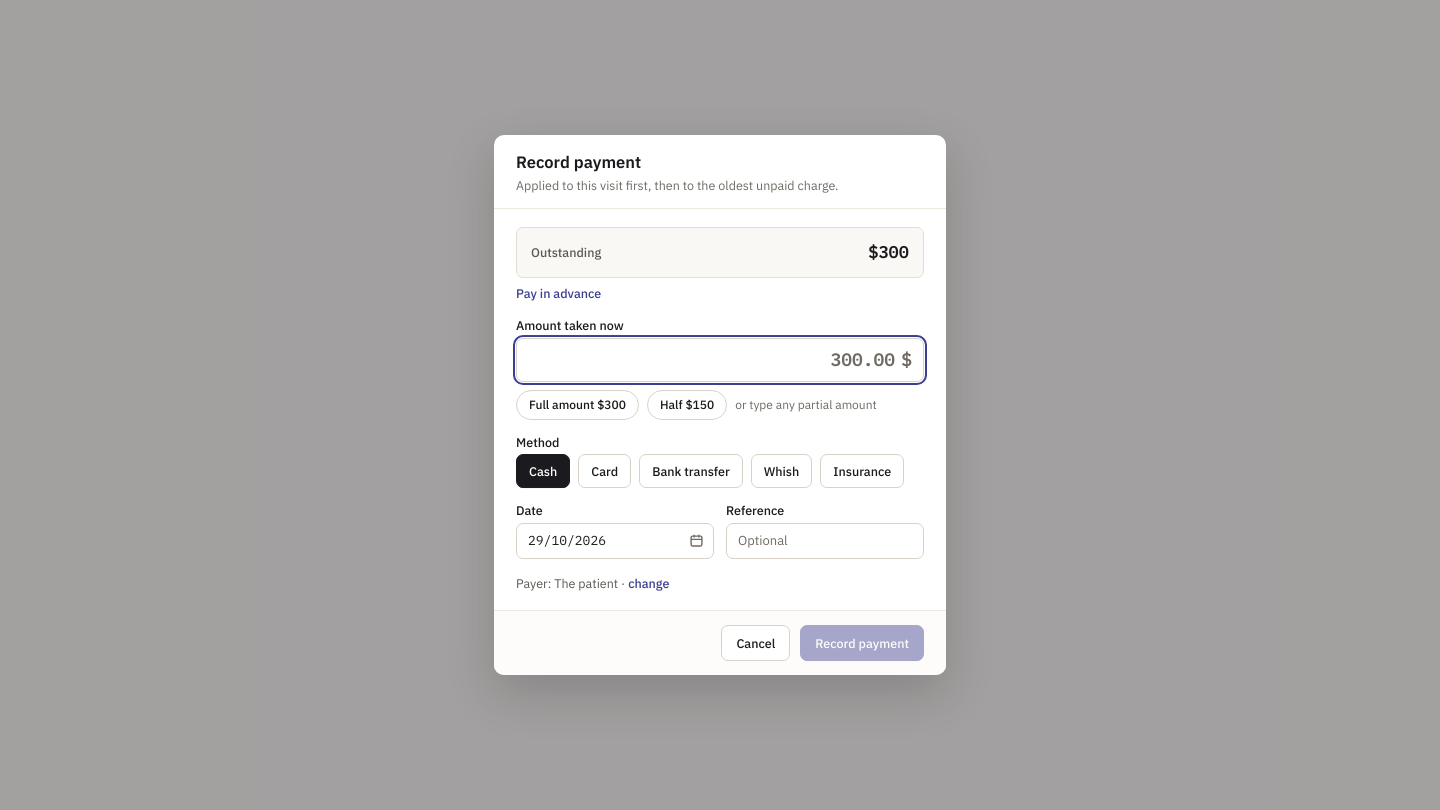
Test: Record payment (spec §Record Payment) › starts empty with the outstanding as placeholder; the chips and cap drive the submit label
The width and height of the screenshot is (1440, 810).
Expected: the text "Applied to this visit first, then to the oldest unpaid charge." is shown, [516,177,838,193]
Expected: the button "Record payment" is disabled, [800,625,924,661]
In the field labelled "Amount taken now": coordinates (712, 360) [528,339,895,381], type "300.01"
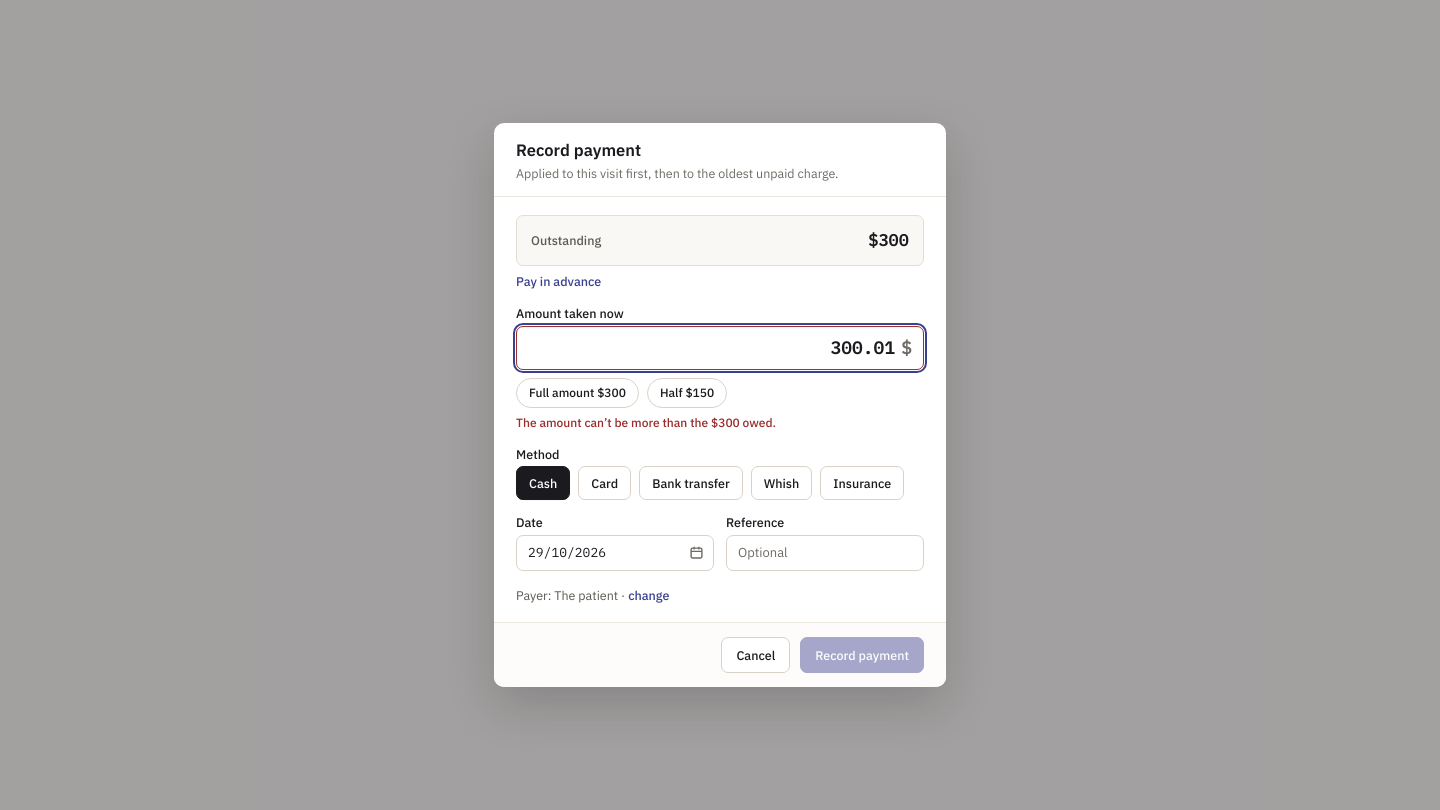
Expected: the button "Record payment" is disabled, [800,637,924,673]
Expected: the text "The amount can’t be more than the $300 owed." is shown, [516,415,776,430]
Click the button "Half $150": coordinates (687, 393) [647,378,727,408]
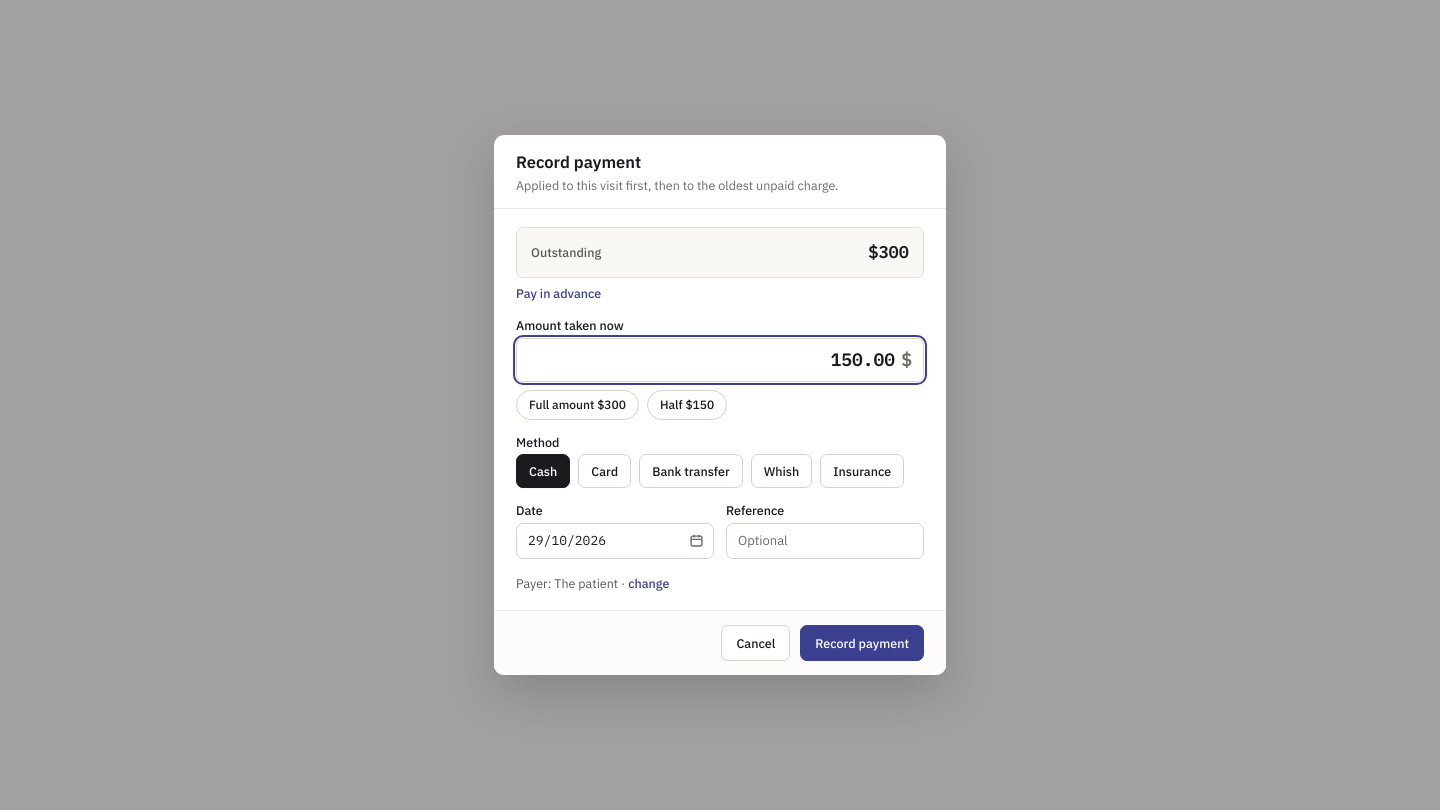
Expected: the button "Record payment" is shown, [800,625,924,661]
Click the button "Full amount $300": coordinates (577, 405) [516,390,639,420]
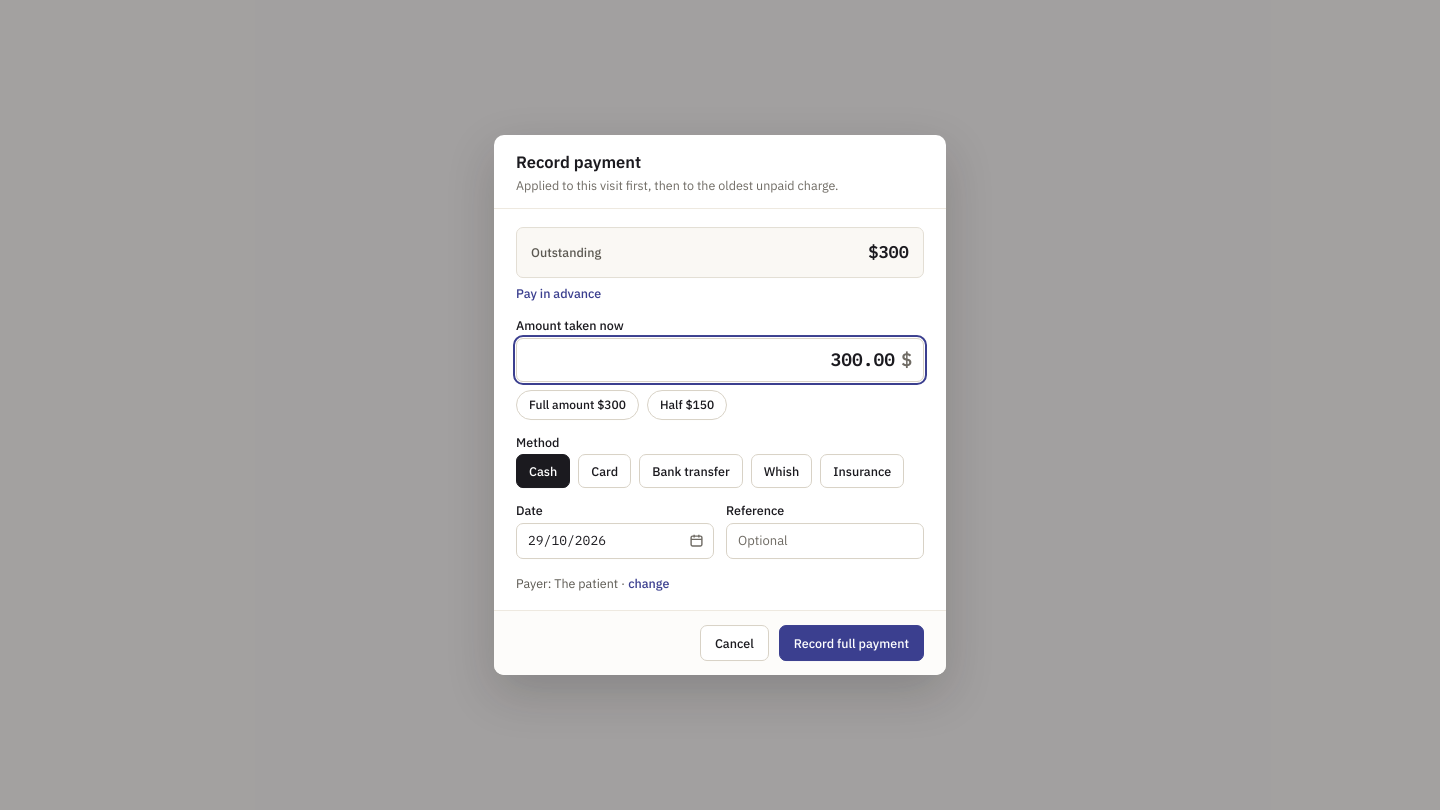
Expected: the button "Record full payment" is shown, [779,625,924,661]
